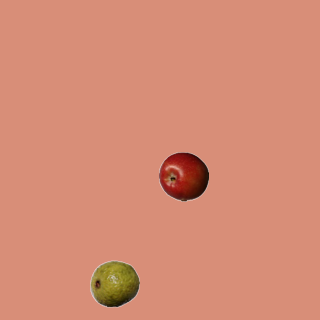Apple Braeburn: (158, 151, 208, 201)
Guava: (89, 258, 139, 308)
